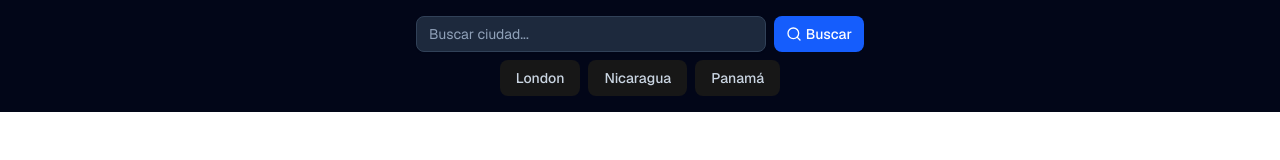
Test case: CitySearchForm › los botones de ciudades precargadas actualizan el input y hacen push
Click the button "Panamá". click: x=738, y=78
box: [695,60,780,96]
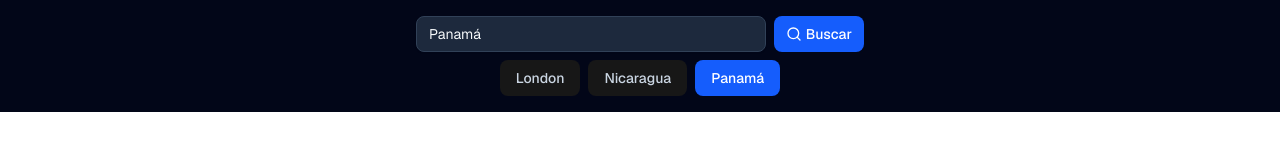
Expected: the field with placeholder "Buscar ciudad..." holds "Panamá", [416,16,766,52]
